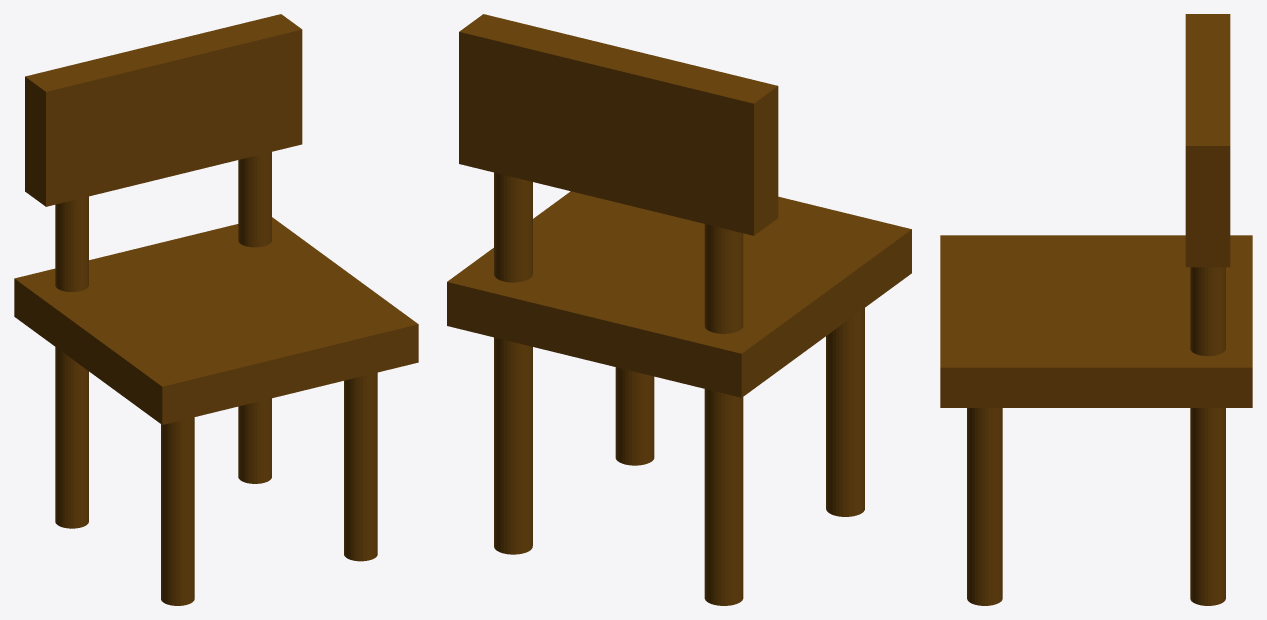
File: Chair1.glb
The picture shows the model from 3 angles, left to right: view 1: azimuth 30°, elevation 25°; view 2: azimuth 150°, elevation 25°; view 3: azimuth 270°, elevation 25°; orthographic projection. The views are drawn at different scales.
Visible parts, largest first — view 1: Cube, Cube.001, Cylinder.006, Cylinder.008, Cylinder.007, Cylinder.005; view 2: Cube, Cube.001, Cylinder.006, Cylinder.005, Cylinder.007, Cylinder.008; view 3: Cube, Cube.001, Cylinder.005, Cylinder.008.
Boxes of the visible parts, x1,y1,x2,y2 form: Cube: (14, 217, 418, 424); Cube.001: (25, 14, 302, 206); Cylinder.006: (55, 196, 88, 528); Cylinder.008: (344, 372, 377, 561); Cylinder.007: (161, 417, 194, 605); Cylinder.005: (238, 152, 271, 483); Cube: (447, 191, 911, 397); Cube.001: (459, 14, 778, 235); Cylinder.006: (704, 224, 743, 605); Cylinder.005: (494, 172, 532, 554); Cylinder.007: (826, 308, 864, 516); Cylinder.008: (615, 367, 654, 465); Cube: (940, 235, 1252, 407); Cube.001: (1185, 14, 1230, 267); Cylinder.005: (1190, 267, 1225, 605); Cylinder.008: (967, 408, 1002, 605).
Bounding box in the file's own units: 1.4 × 2.33 × 1.4.
